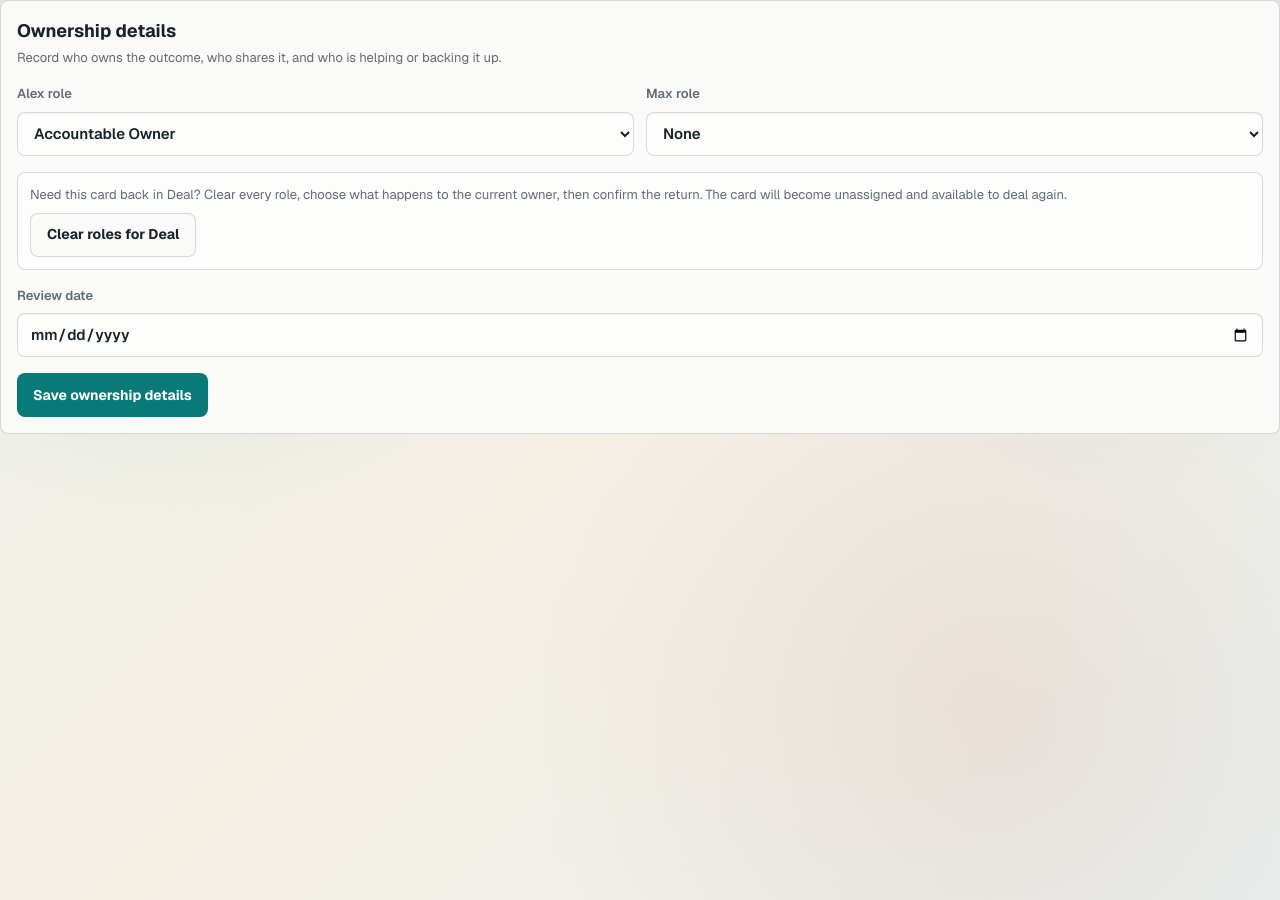
OwnershipDetails › does not save a shared-owner role without another owner
Select "None" in the dropdown labelled "Alex role" at x=326, y=134, box left=17, top=112, right=634, bottom=156
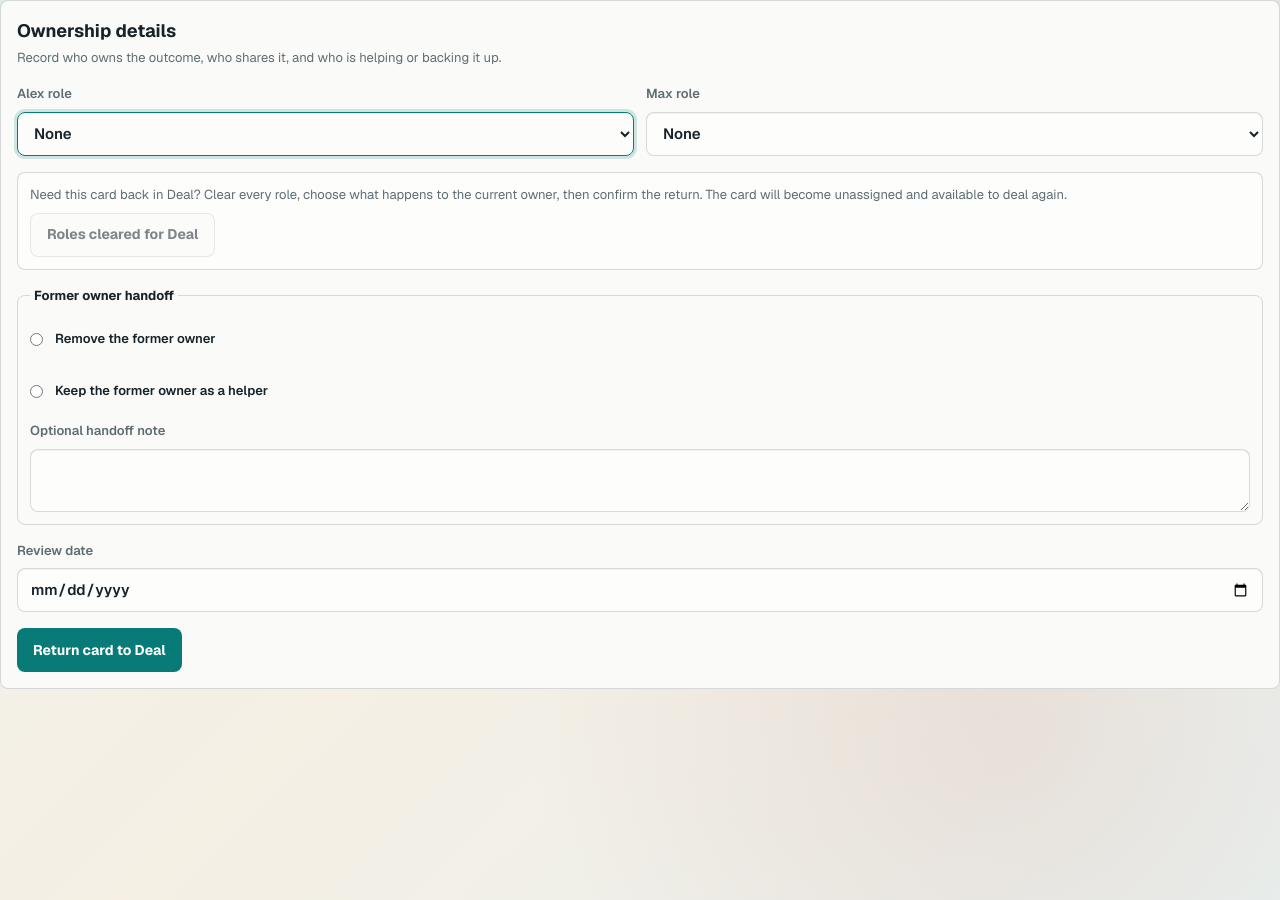
Select "Shared Owner" in the dropdown labelled "Max role" at x=954, y=134, box left=646, top=112, right=1263, bottom=156
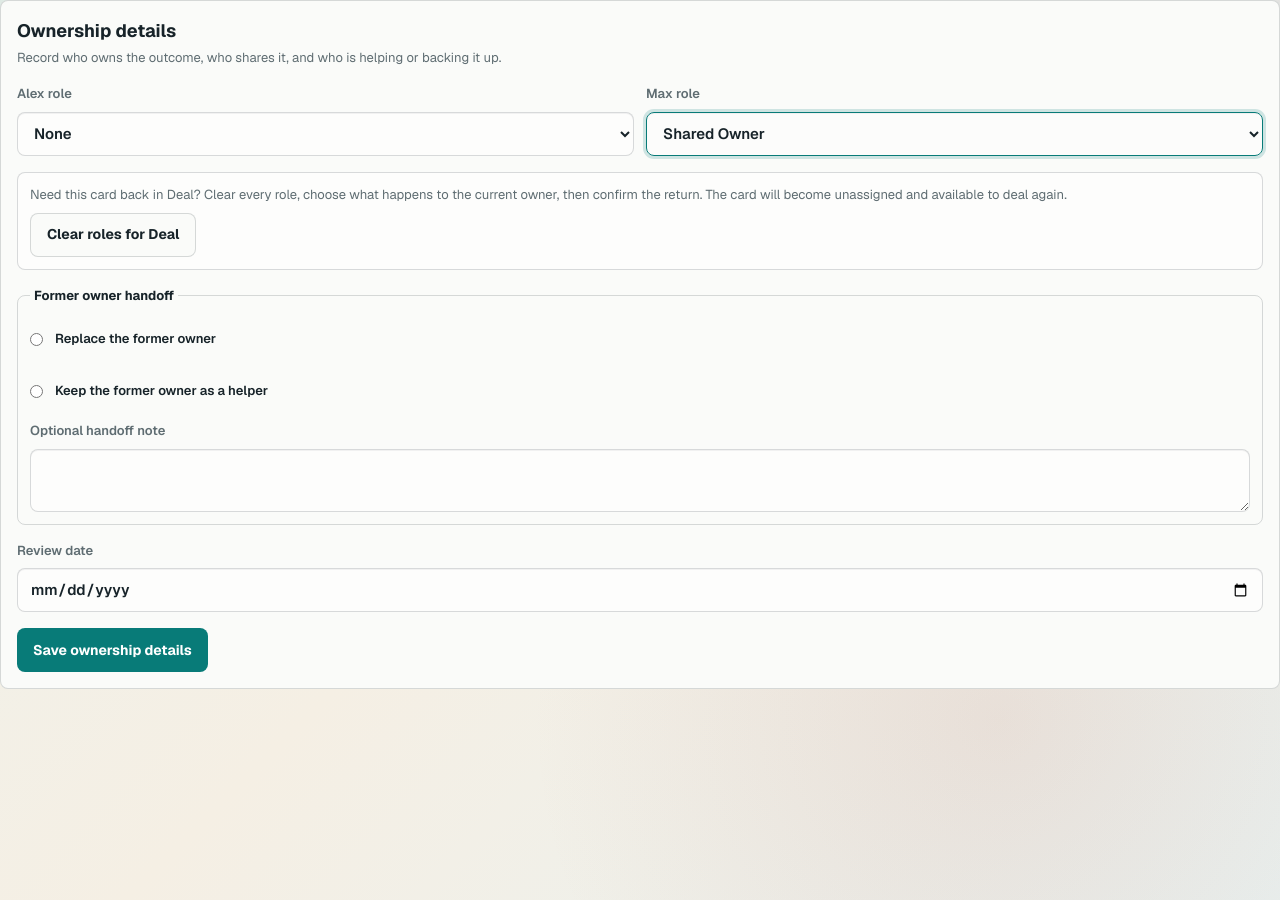
Click the button "Save ownership details" at x=112, y=650, box left=17, top=628, right=208, bottom=672
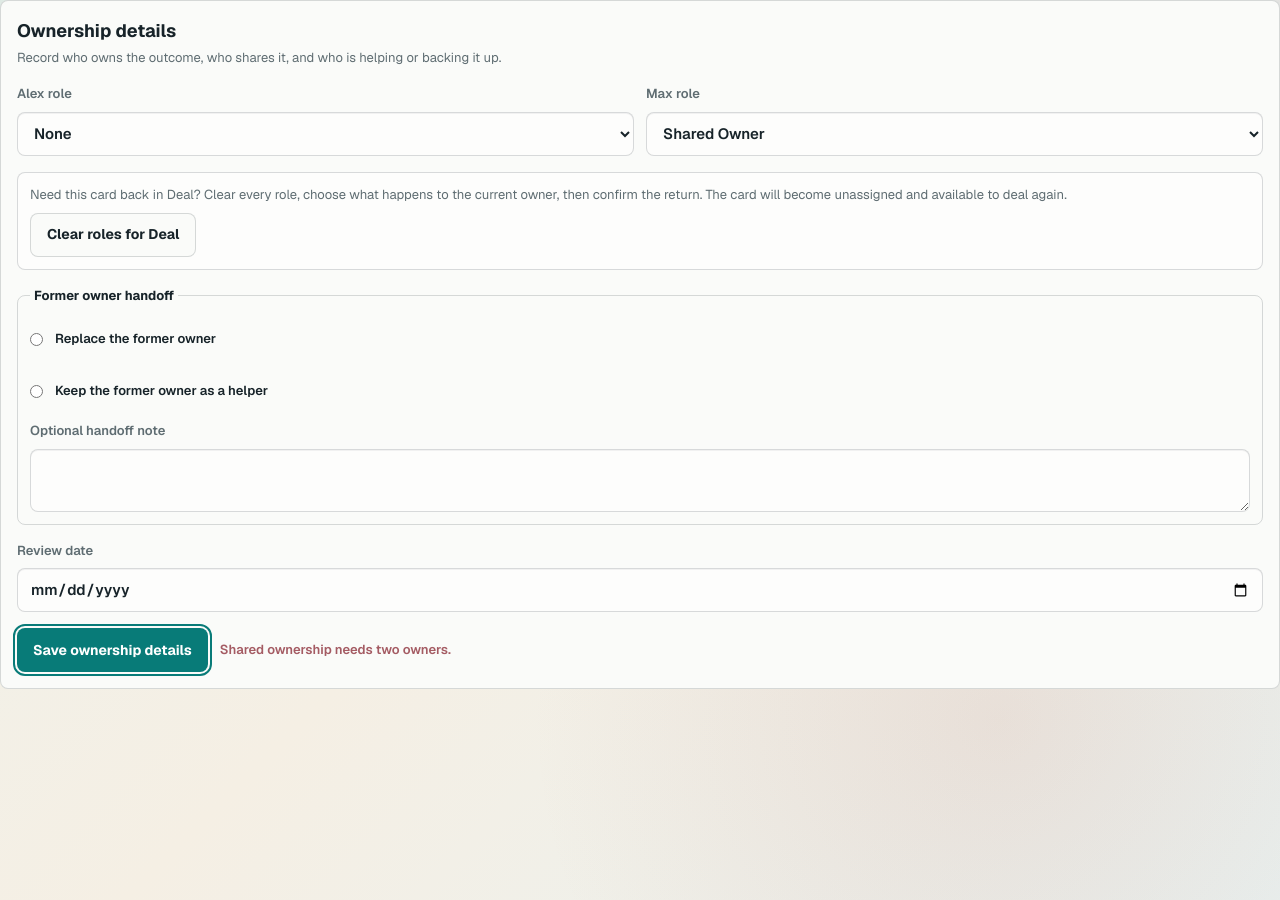
expect the message reads "Shared ownership needs two owners.": met, box left=220, top=641, right=451, bottom=658
